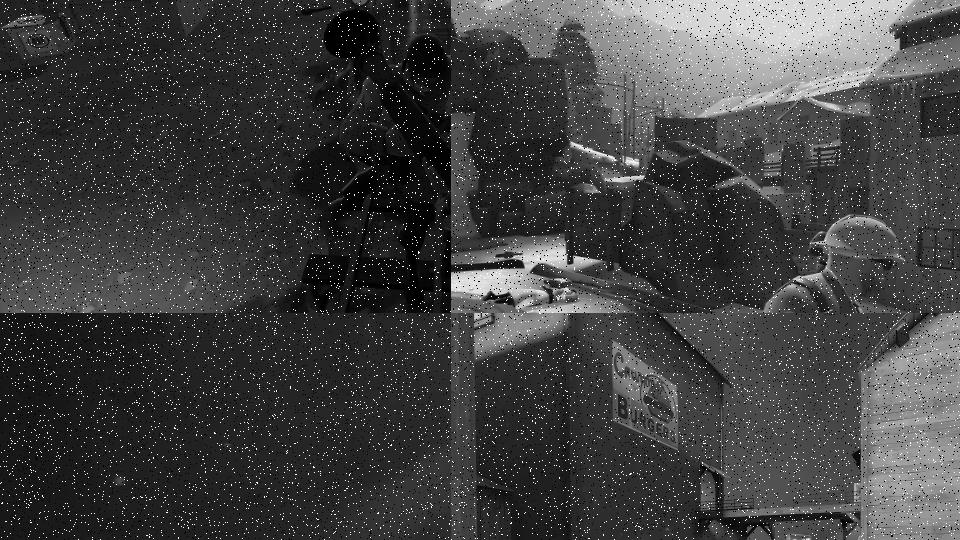Enemy: (322, 7, 451, 310), (754, 211, 960, 313), (482, 278, 580, 312)
